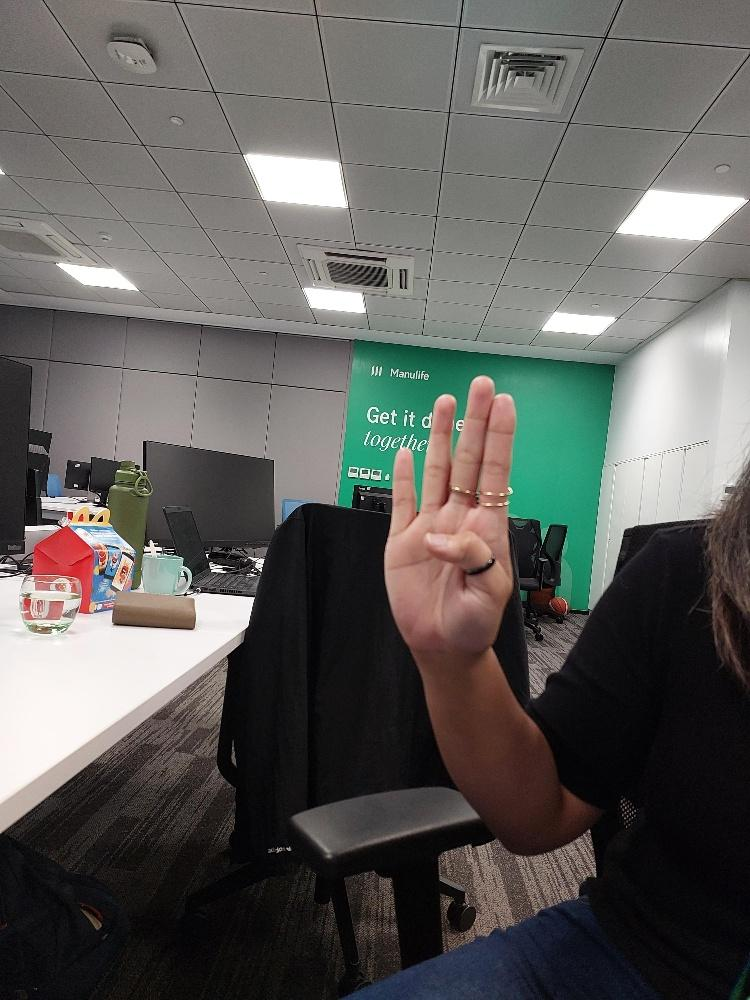b: (381, 374, 518, 656)
